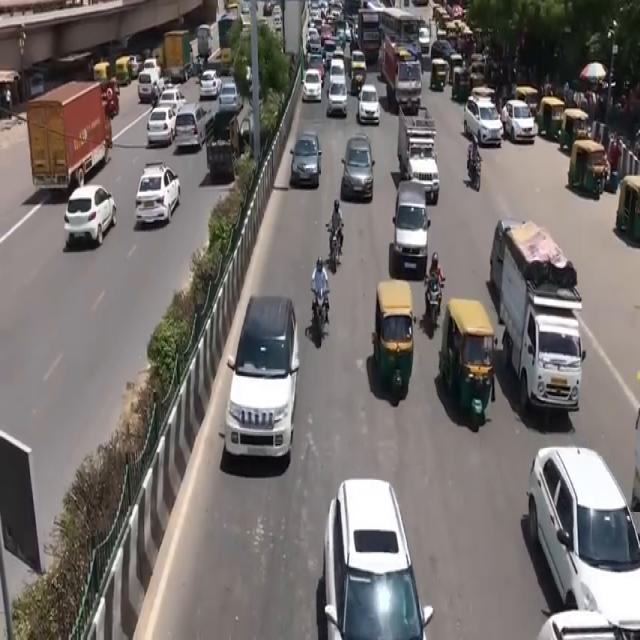MOTORCYCLE: (424, 276, 443, 336), (312, 286, 329, 351), (328, 226, 342, 274)
TRUCK: (505, 221, 589, 428), (28, 85, 112, 202)
